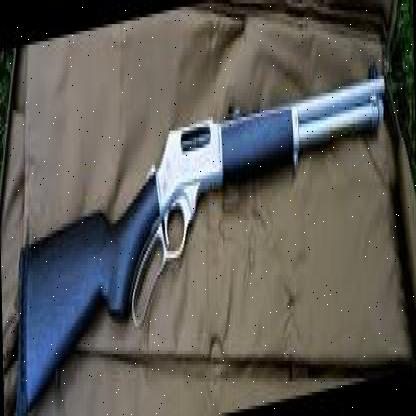rifle: (8, 58, 393, 416)
